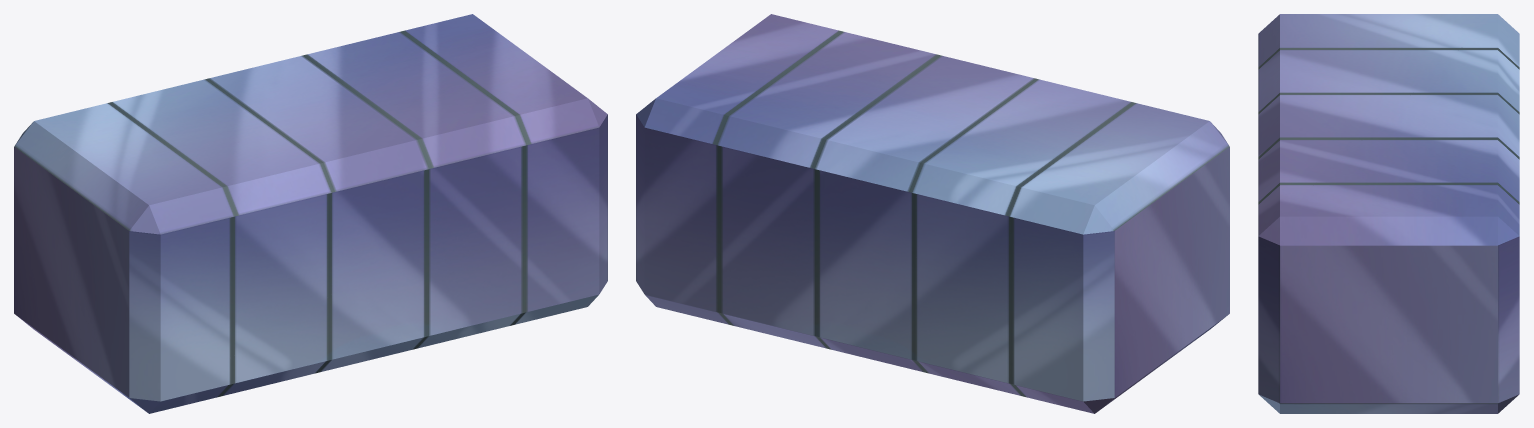
File: Plat_Lvl_3.FBX
The picture shows the model from 3 angles, left to right: view 1: azimuth 30°, elevation 25°; view 2: azimuth 150°, elevation 25°; view 3: azimuth 270°, elevation 25°; orthographic projection. The views are drawn at different scales.
Parts seen in each view (by area): view 1: Plataforma_Nivel_3; view 2: Plataforma_Nivel_3; view 3: Plataforma_Nivel_3.
Boxes of the visible parts, x1,y1,x2,y2 form: Plataforma_Nivel_3: (14, 14, 607, 413); Plataforma_Nivel_3: (636, 14, 1229, 413); Plataforma_Nivel_3: (1258, 14, 1519, 413).
Bounding box in the file's own units: 1.39 × 0.5789 × 0.6947.
